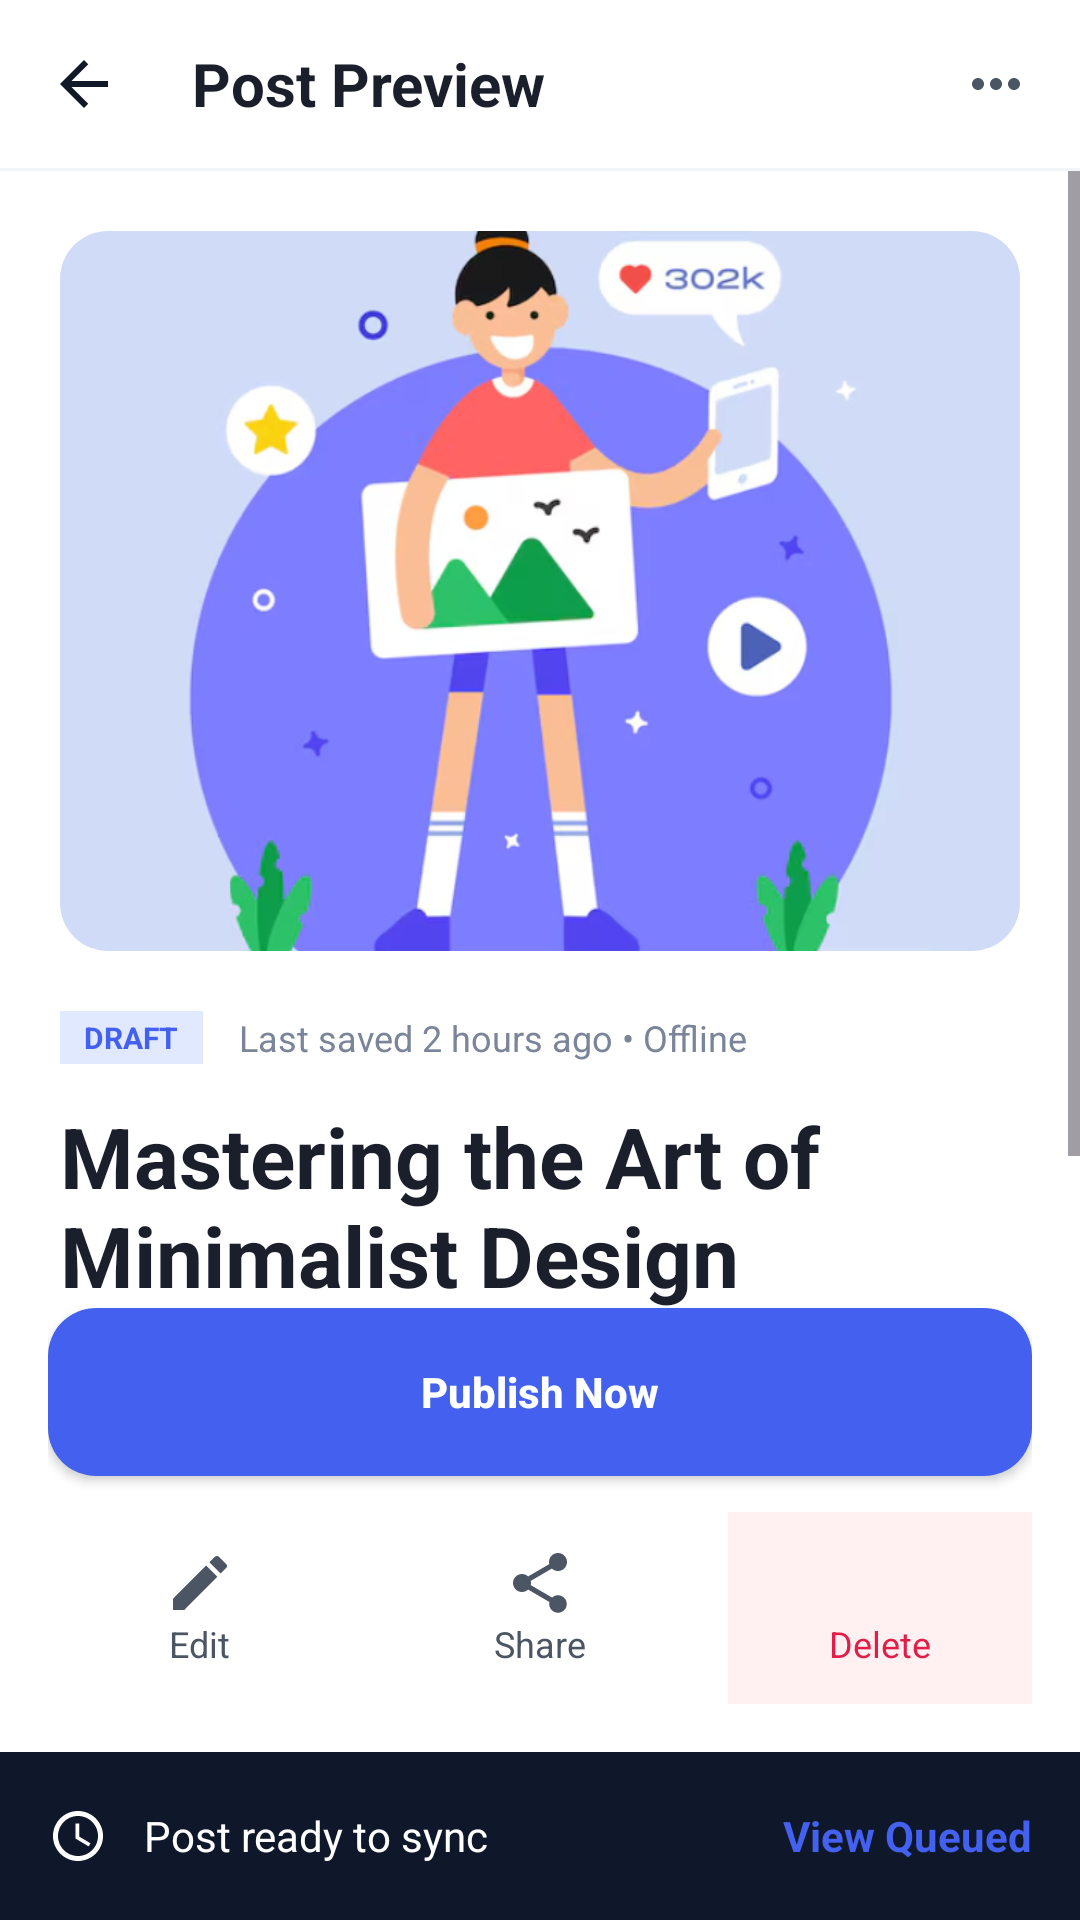

Named icons in this screenshot (1080 x 1920) and their centers, point (x, y):
back: point (84, 84)
clock: point (78, 1836)
more: point (996, 84)
